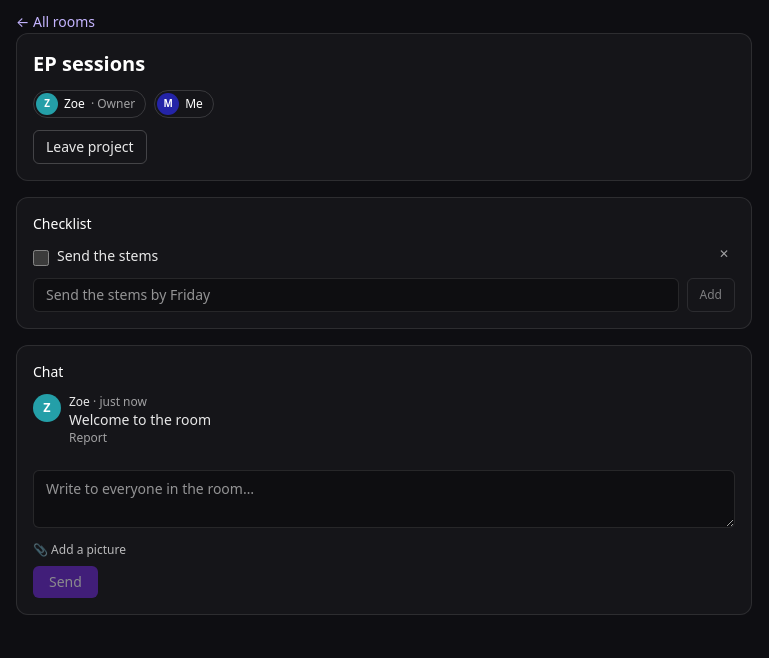
Test case: ProjectPage: a member › adds, ticks off and removes things on the checklist
Expected: the text "Send the stems" is shown, [57,246,158,265]
Type "Book the studio" into the field named "Something that needs doing". click: x=356, y=295
box: [33,278,679,312]
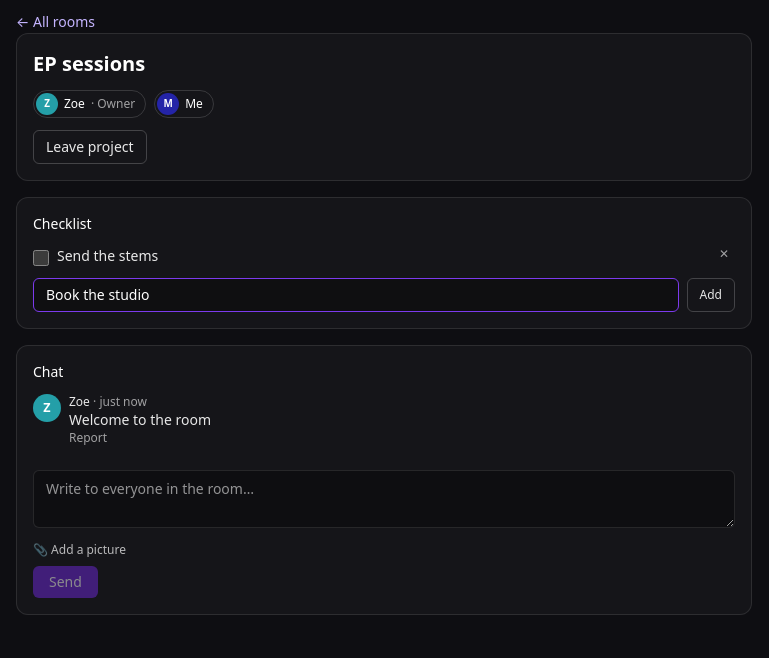
Click the button "Add". click: x=711, y=295
box: [687,278,735,312]
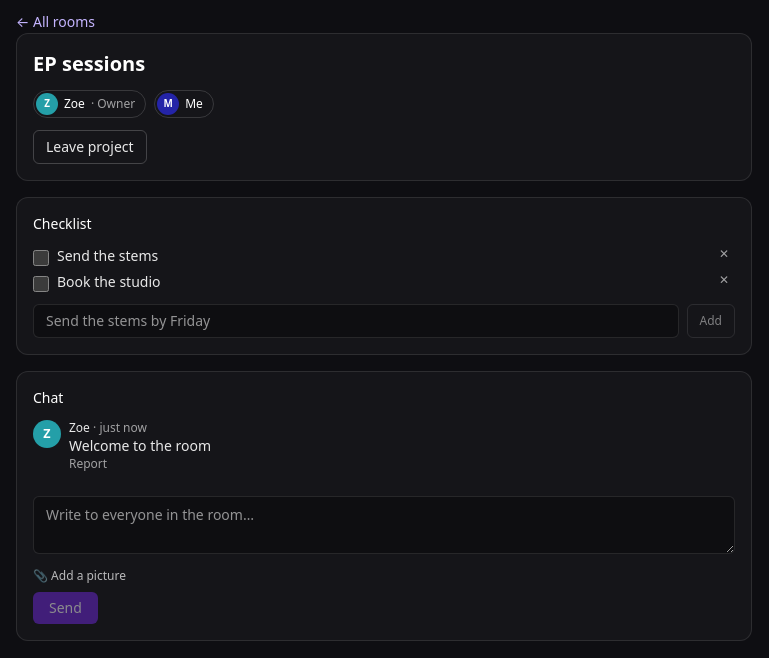
Result: the text "Book the studio" is shown at [57,272,160,291]
Click the checkbox named "Mark done: Send the stems". click: x=41, y=258
box: [33,250,49,266]
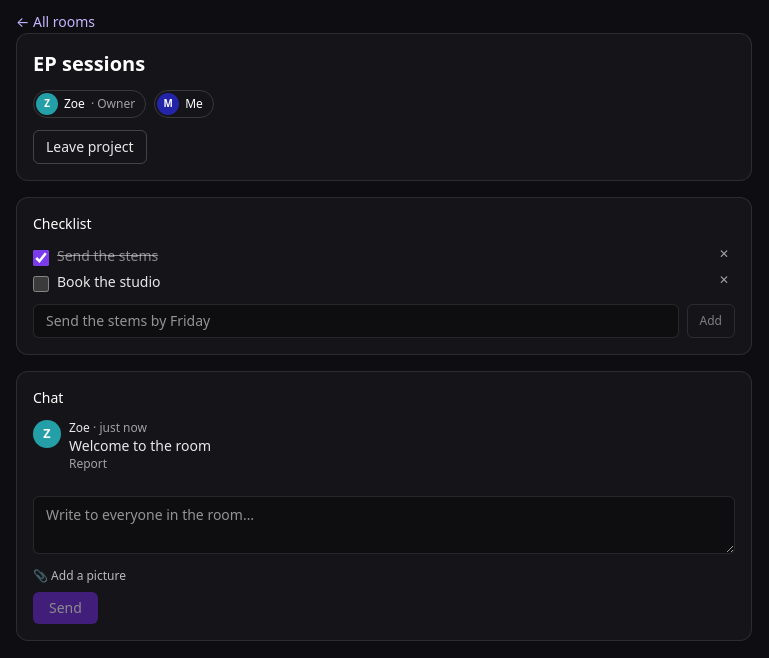
Result: the checkbox named "Mark not done: Send the stems" is checked at [33,250,49,266]
Click the button named "Remove: Book the studio". click: x=724, y=280
box: [713,272,735,288]
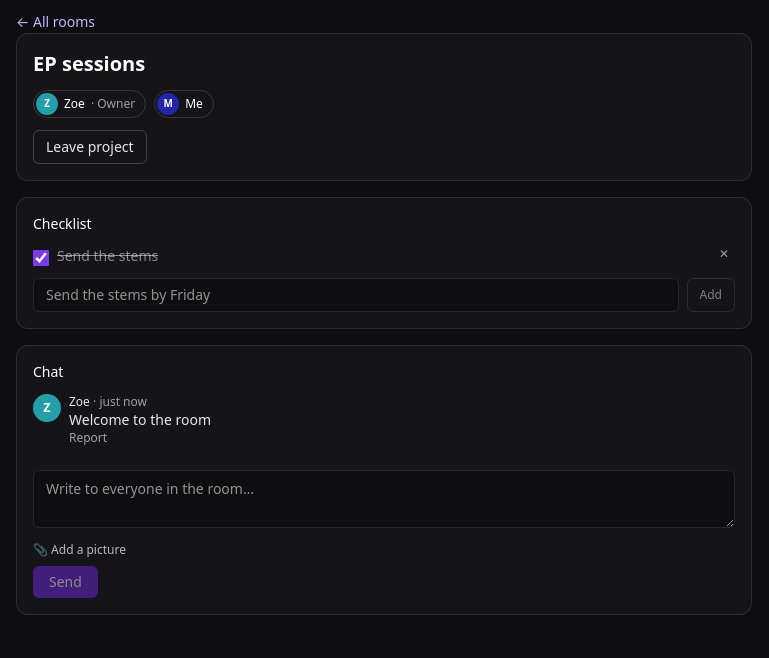
Result: the text "Book the studio" is gone
